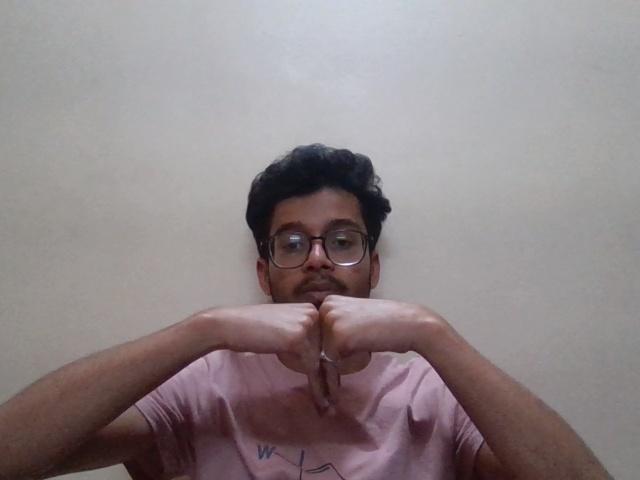yesterday: (222, 289, 422, 414)
